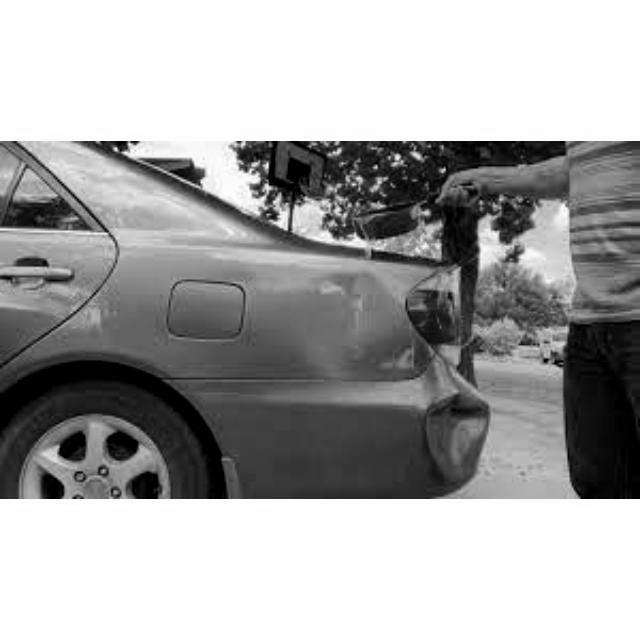doorouter-dent: (1, 227, 118, 412)
quaterpanel-dent: (120, 248, 403, 448)
rear-bumper-dent: (395, 269, 497, 497)
